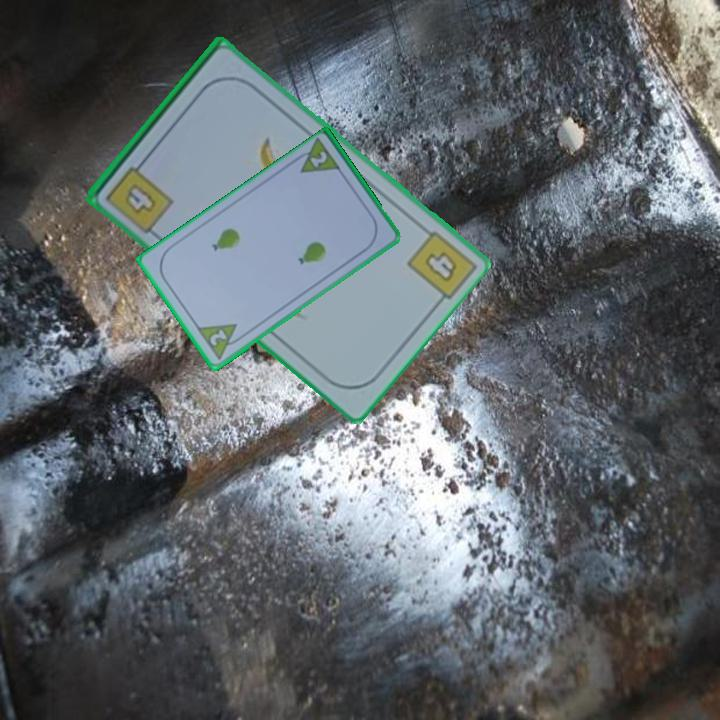2p: (206, 326, 230, 349), (306, 148, 330, 171)
4b: (102, 154, 176, 233), (421, 247, 461, 286)
